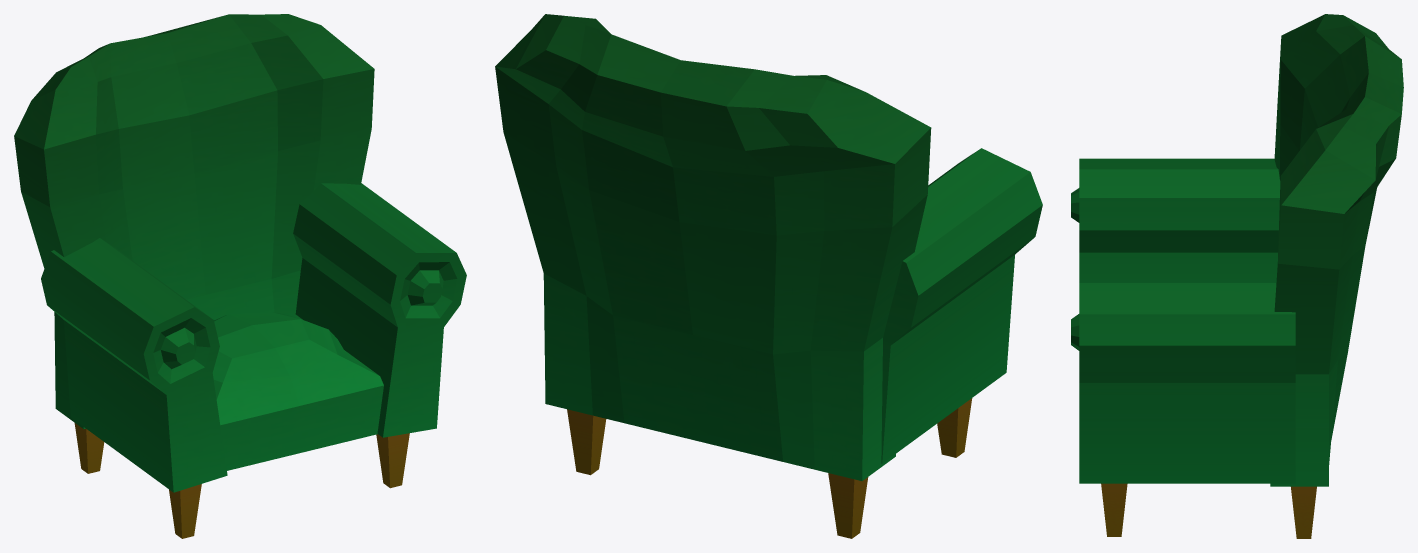
Rendered from Armchair.fbx.
3 renders of one model, left to right at view 1: azimuth 30°, elevation 25°; view 2: azimuth 150°, elevation 25°; view 3: azimuth 270°, elevation 25°, orthographic. The views are drawn at different scales.
Parts seen in each view (by area): view 1: Armchair; view 2: Armchair; view 3: Armchair.
Part boxes in pixels (<box>): Armchair: <box>14,14,466,538</box>; Armchair: <box>495,14,1042,538</box>; Armchair: <box>1071,14,1403,538</box>.
Size of the model in its own units: 1.19 by 1.36 by 0.9902.
